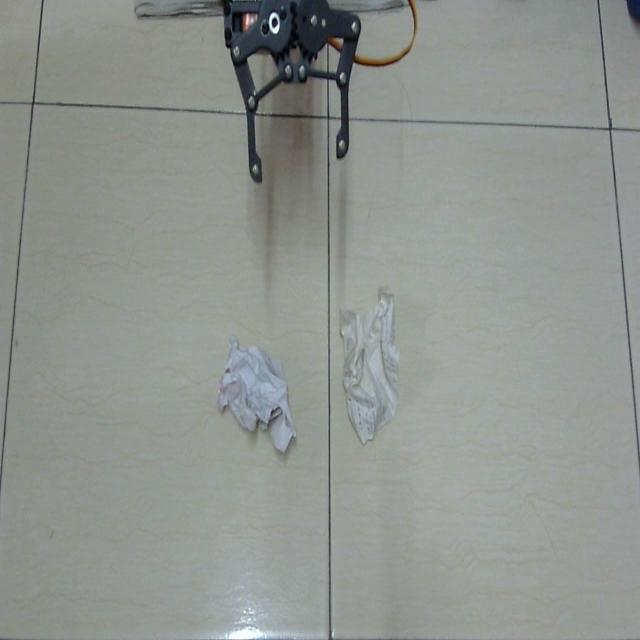Paperrotation: (334, 280, 413, 448), (212, 329, 309, 465)
